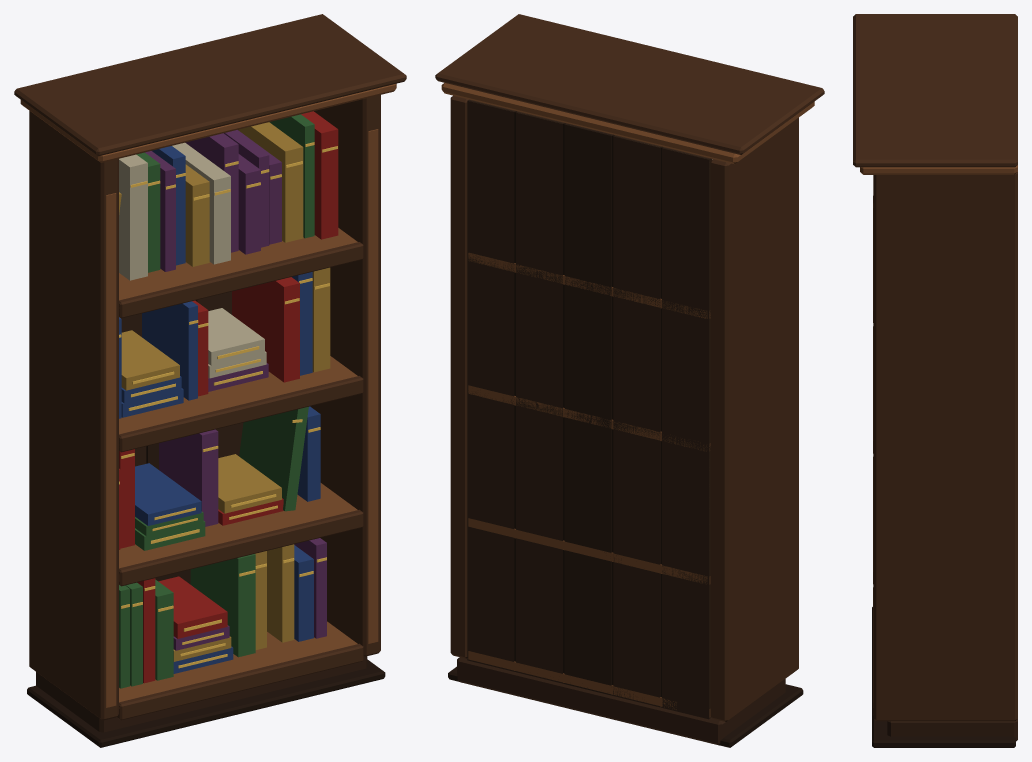
Rendered from bookshelf.obj.
3 renders of one model, left to right at view 1: azimuth 30°, elevation 25°; view 2: azimuth 150°, elevation 25°; view 3: azimuth 270°, elevation 25°, orthographic. The views are drawn at different scales.
Parts seen in each view (by area): view 1: box, box.007, box.002, box.001, box.003, box.005, box.090, box.017, box.019, box.023, box.021, box.068 (+49 smaller); view 2: box, box.011, box.007, box.012, box.013, box.015, box.014, box.002, box.004, box.010, box.006, box.018 (+4 smaller); view 3: box.002, box.007, box.004, box.005, box.006, box.003.
Part boxes in pixels (left/top/right/bottom): box: left=29, top=111, right=118, bottom=720; box.007: left=14, top=14, right=406, bottom=156; box.002: left=310, top=95, right=380, bottom=656; box.001: left=106, top=193, right=116, bottom=707; box.003: left=368, top=129, right=378, bottom=643; box.005: left=27, top=659, right=385, bottom=747; box.090: left=232, top=277, right=299, bottom=382; box.017: left=117, top=643, right=363, bottom=720; box.019: left=119, top=509, right=363, bottom=586; box.023: left=119, top=242, right=363, bottom=318; box.021: left=119, top=376, right=363, bottom=452; box.068: left=239, top=406, right=308, bottom=511; box: left=710, top=117, right=798, bottom=721; box.011: left=662, top=147, right=712, bottom=719; box.007: left=435, top=14, right=824, bottom=154; box.012: left=613, top=135, right=663, bottom=707; box.013: left=564, top=123, right=614, bottom=695; box.015: left=467, top=99, right=517, bottom=671; box.014: left=516, top=111, right=565, bottom=683; box.002: left=450, top=95, right=468, bottom=658; box.004: left=457, top=657, right=785, bottom=745; box.010: left=468, top=100, right=709, bottom=718; box.006: left=441, top=83, right=814, bottom=164; box.018: left=468, top=518, right=710, bottom=584; box.002: left=873, top=172, right=1017, bottom=721; box.007: left=853, top=14, right=1017, bottom=167; box.004: left=887, top=719, right=1017, bottom=741; box.005: left=872, top=607, right=1015, bottom=747; box.006: left=860, top=165, right=1017, bottom=174; box.003: left=873, top=203, right=873, bottom=707.
Size of the model in its own units: 1.02 by 1.91 by 0.48.
